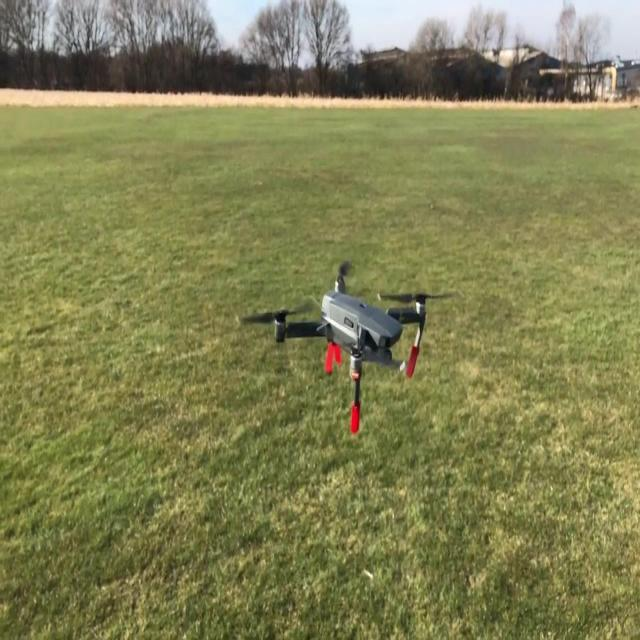UAV: (239, 258, 452, 434)
